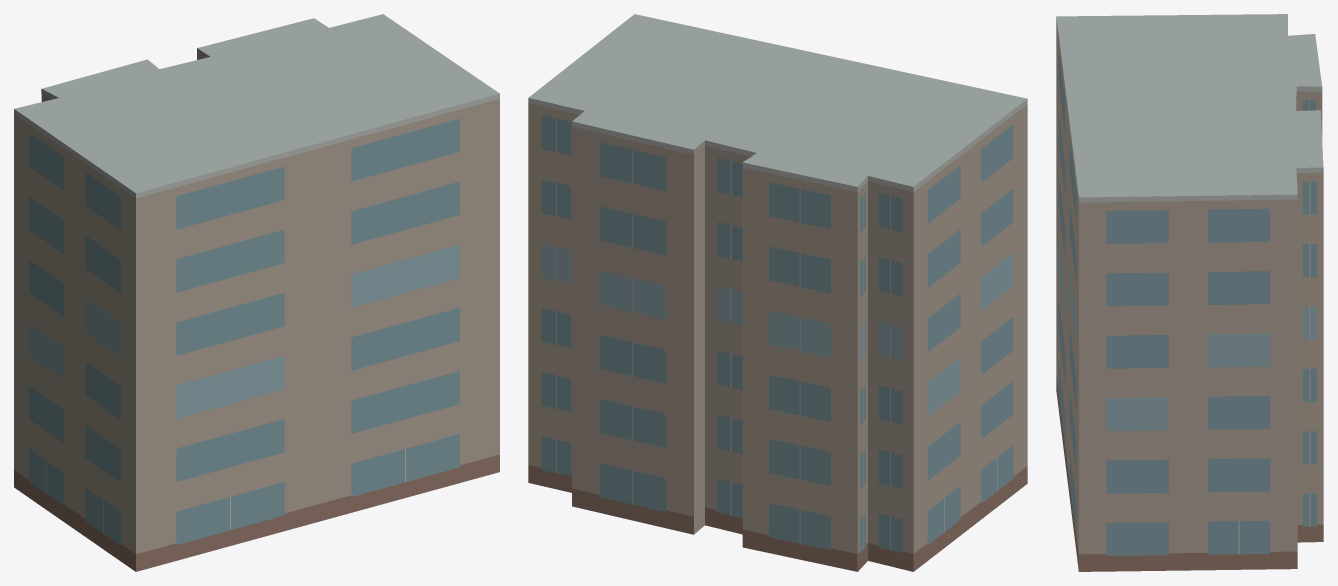
Rendered from survey-upis-33011796.glb.
The picture shows the model from 3 angles, left to right: view 1: azimuth 30°, elevation 25°; view 2: azimuth 150°, elevation 25°; view 3: azimuth 270°, elevation 25°; orthographic projection. The views are drawn at different scales.
Visible parts, largest first — view 1: survey-upis-33011796.tmp; view 2: survey-upis-33011796.tmp; view 3: survey-upis-33011796.tmp.
Boxes of the visible parts, left/top/right/bottom form: survey-upis-33011796.tmp: left=14, top=14, right=499, bottom=571; survey-upis-33011796.tmp: left=528, top=14, right=1027, bottom=571; survey-upis-33011796.tmp: left=1056, top=14, right=1323, bottom=571.
Size of the model in its own units: 18.82 by 17.9 by 11.58.
